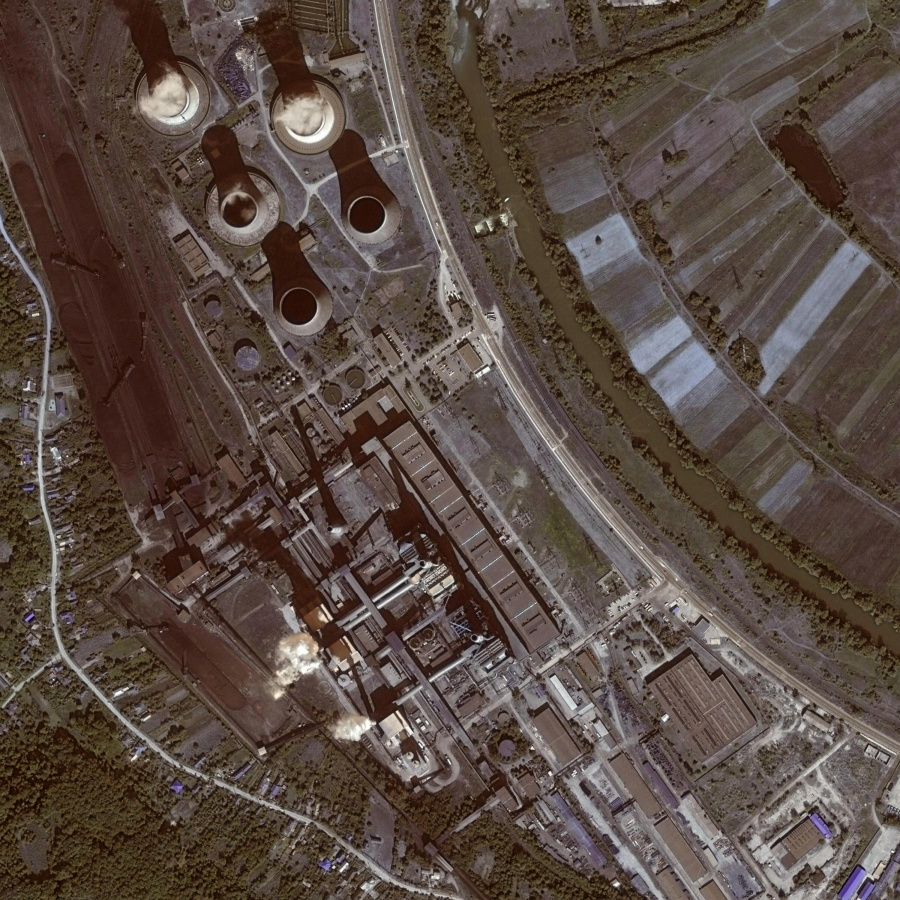PowerPlant: (159, 541, 374, 770)
